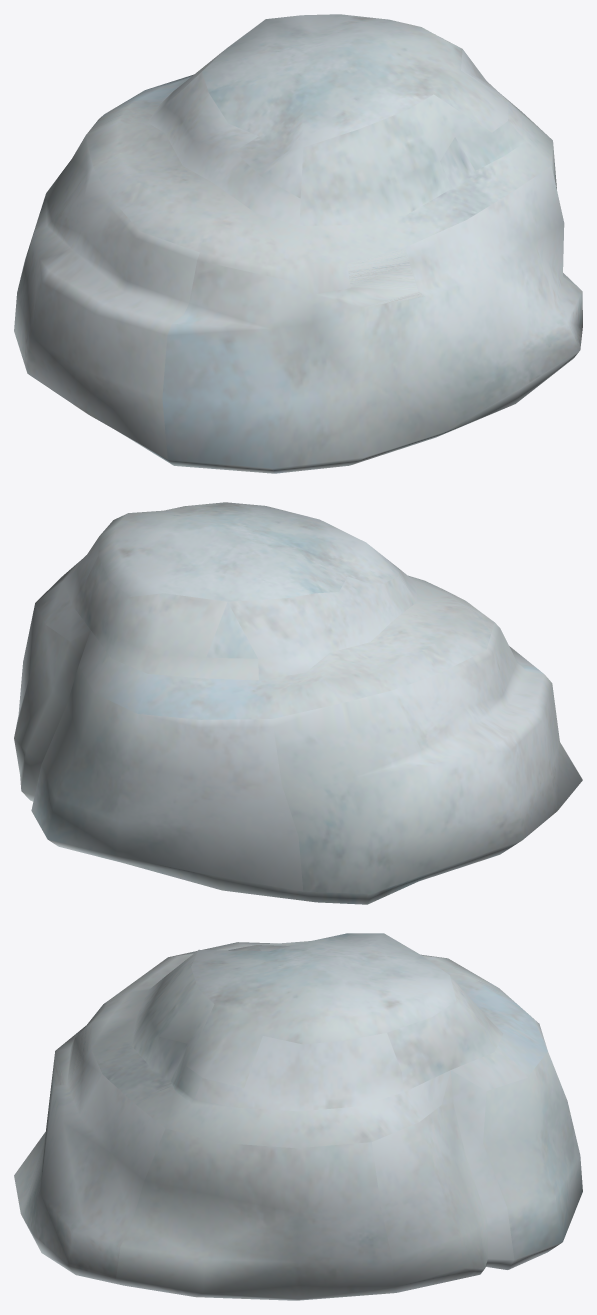
Rendered from P_RockDesert_Rock14.obj.
The picture shows the model from 3 angles, top to bottom: view 1: azimuth 30°, elevation 25°; view 2: azimuth 150°, elevation 25°; view 3: azimuth 270°, elevation 25°; orthographic projection. The views are drawn at different scales.
Bounding box in the file's own units: 3.79 × 2.17 × 3.73.
